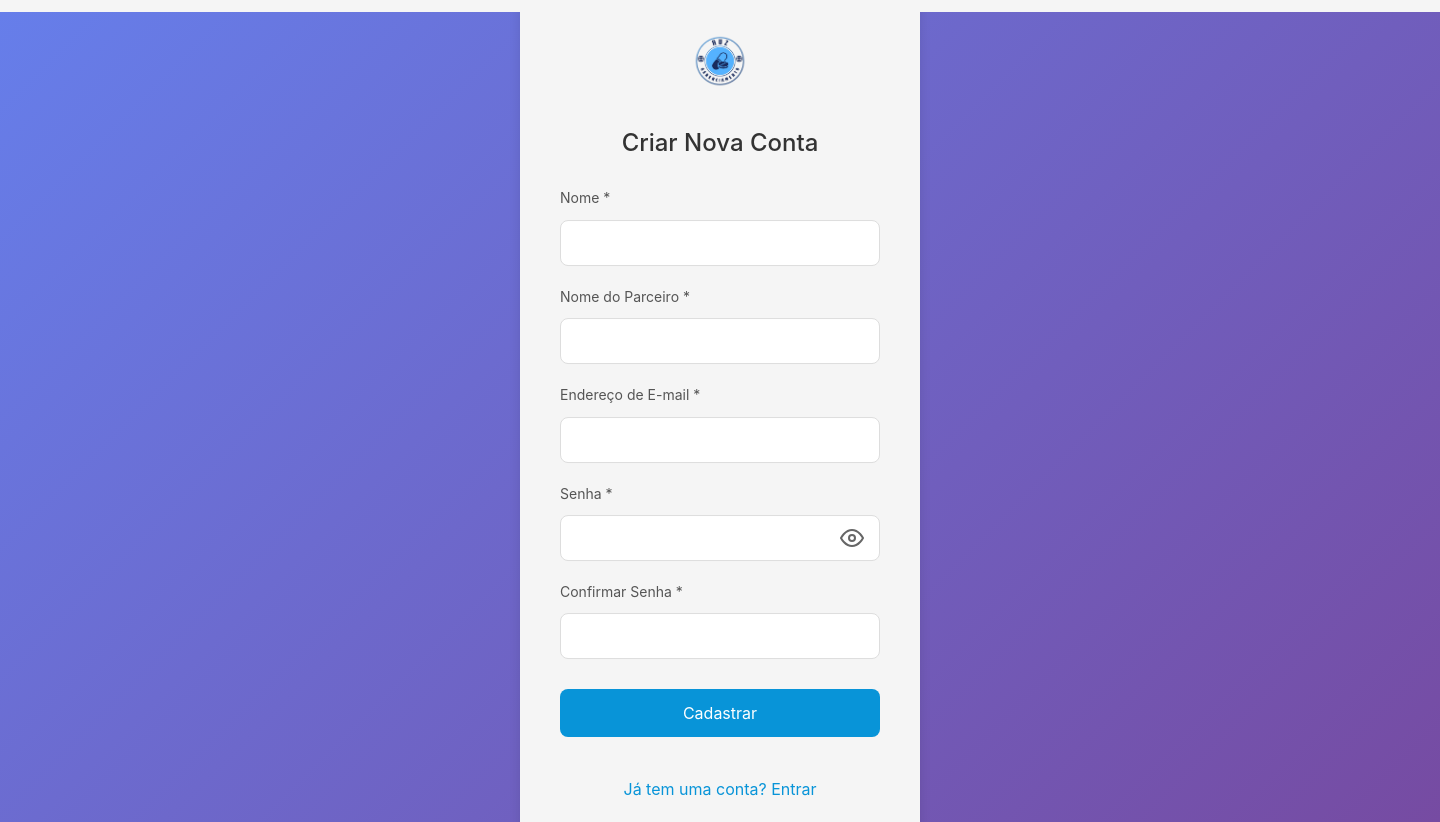
Test: Register Component › shows validation errors for empty fields
Click the button "Cadastrar": (720,713) [560,689,880,737]
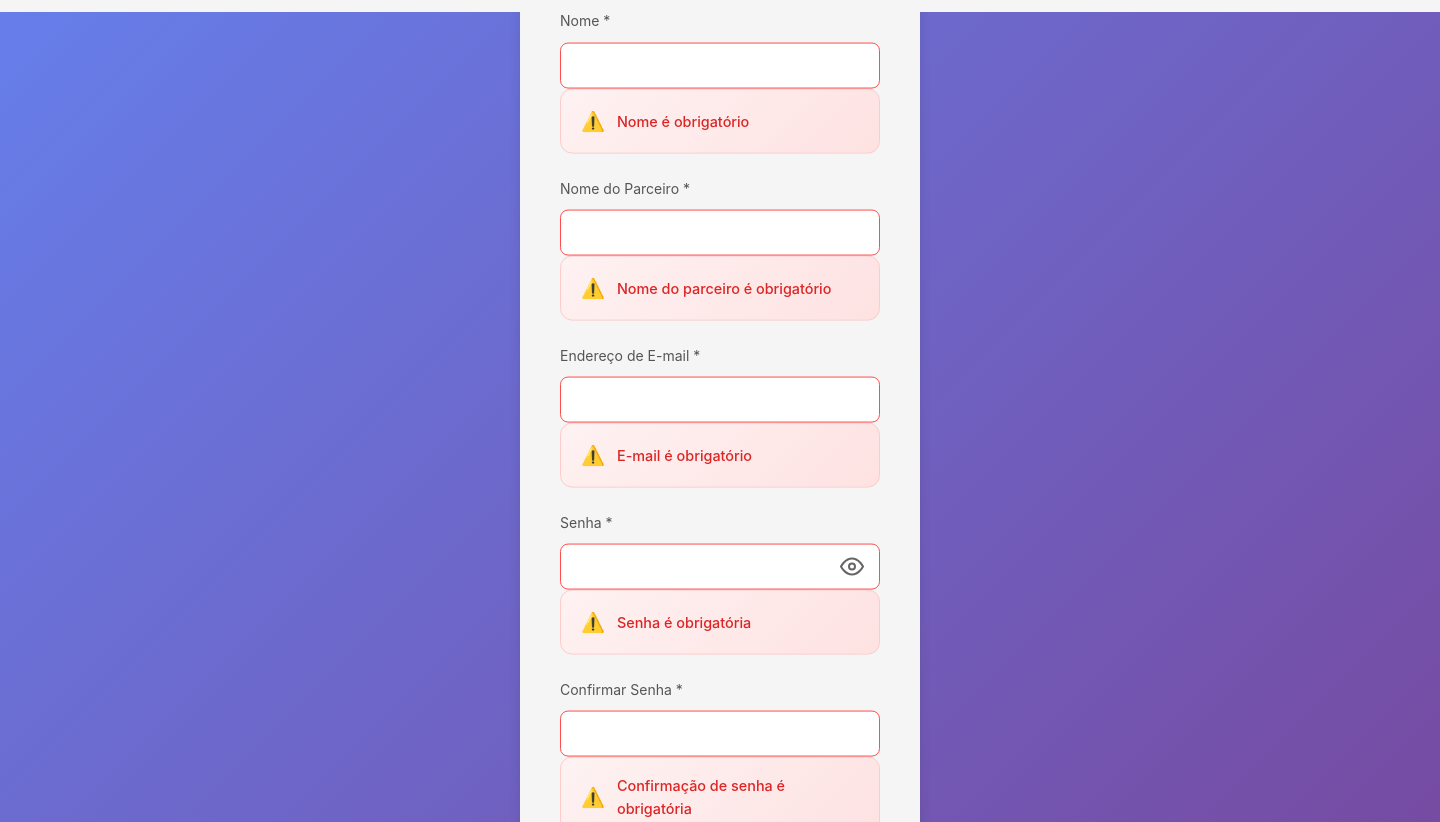
Check: the text "Nome é obrigatório" is shown, box [560,88,880,153]
Check: the text "Nome do parceiro é obrigatório" is shown, box [560,255,880,320]
Check: the text "E-mail é obrigatório" is shown, box [560,422,880,487]
